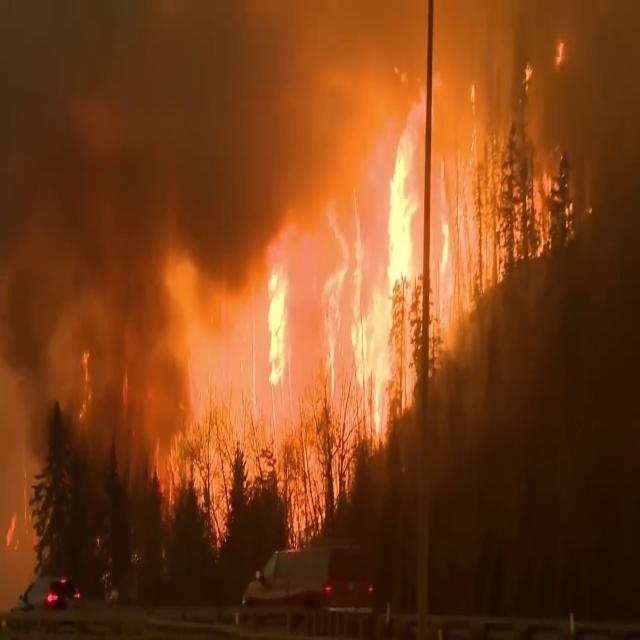Fire: (254, 46, 504, 470)
Smoke: (0, 2, 324, 446), (464, 7, 640, 290)
